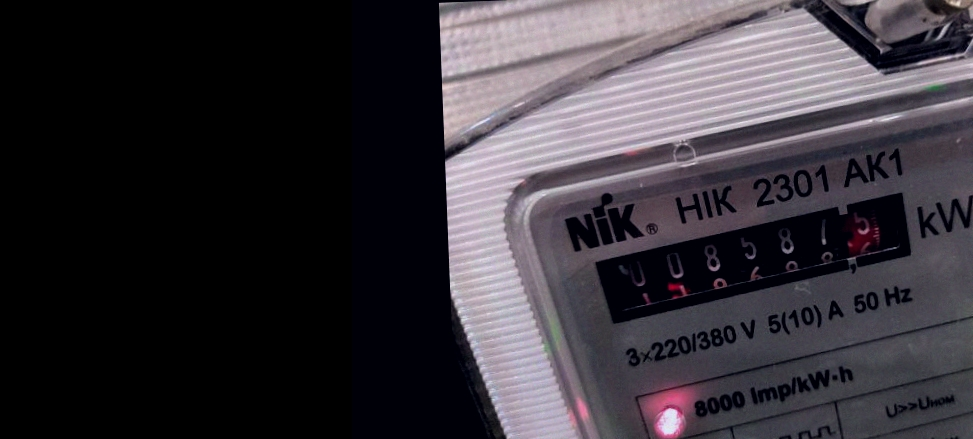0: (662, 245, 689, 280), (624, 254, 651, 287)
5: (737, 229, 761, 261), (850, 203, 873, 235)
6: (857, 238, 875, 255)
7: (812, 213, 835, 248)
8: (774, 222, 798, 256), (701, 240, 726, 272)
screen: (585, 189, 937, 325)
